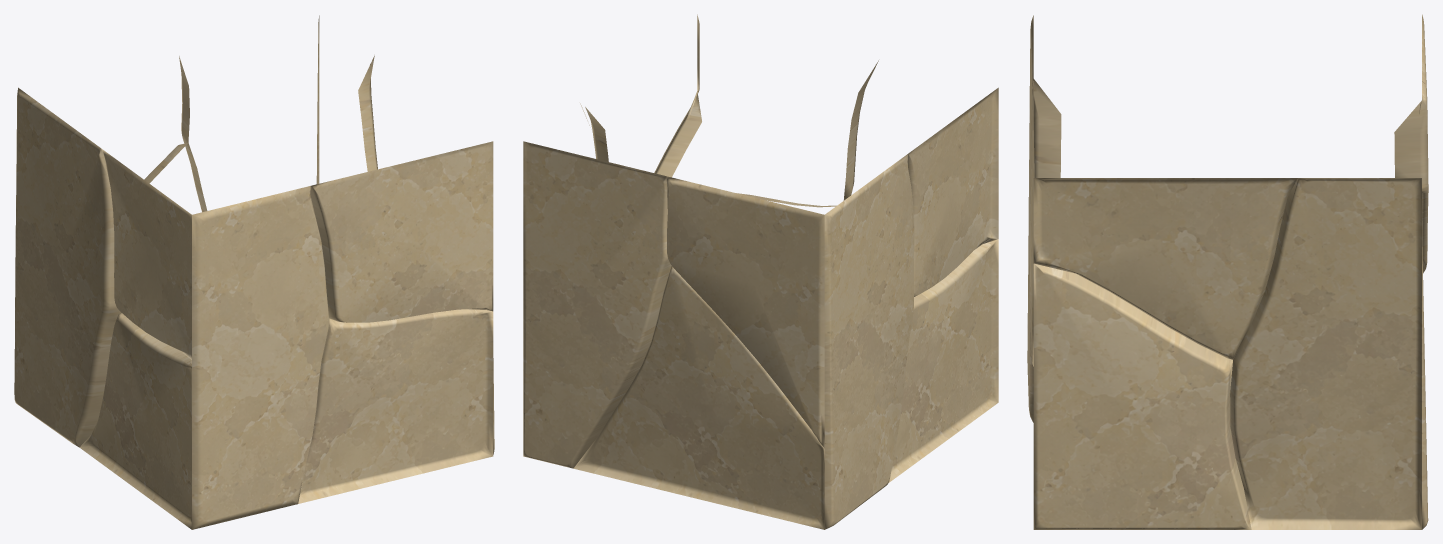
File: GroundRock03.glb
The picture shows the model from 3 angles, left to right: view 1: azimuth 30°, elevation 25°; view 2: azimuth 150°, elevation 25°; view 3: azimuth 270°, elevation 25°; orthographic projection. The views are drawn at different scales.
Parts seen in each view (by area): view 1: ground_rock_03; view 2: ground_rock_03; view 3: ground_rock_03.
Boxes of the visible parts, box(x1,y1,x2,y2) form: ground_rock_03: box(14, 15, 494, 529); ground_rock_03: box(523, 14, 998, 529); ground_rock_03: box(1027, 14, 1428, 529).
Size of the model in its own units: 1.03 by 1 by 1.03.
Materials: 13 (13 with a texture image).
